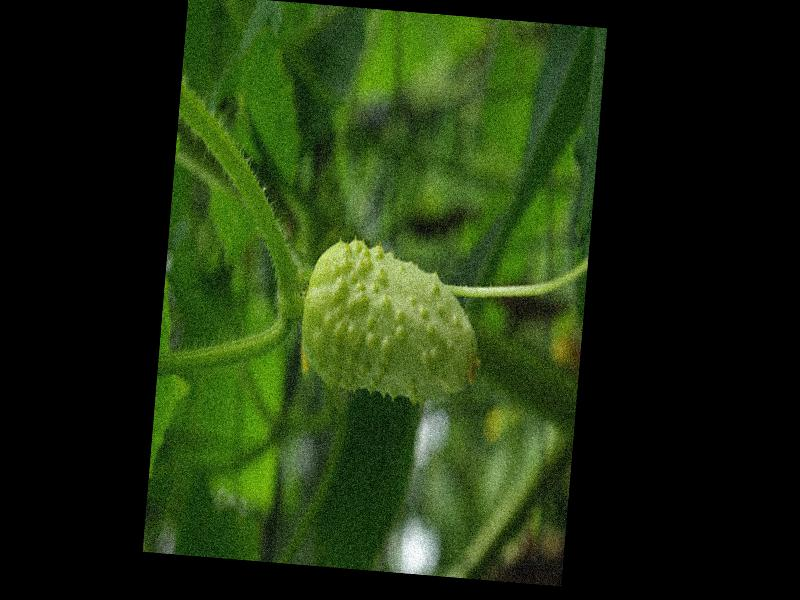Cucumber: (296, 234, 491, 404)
